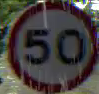Speed limit: (7, 1, 94, 92)
